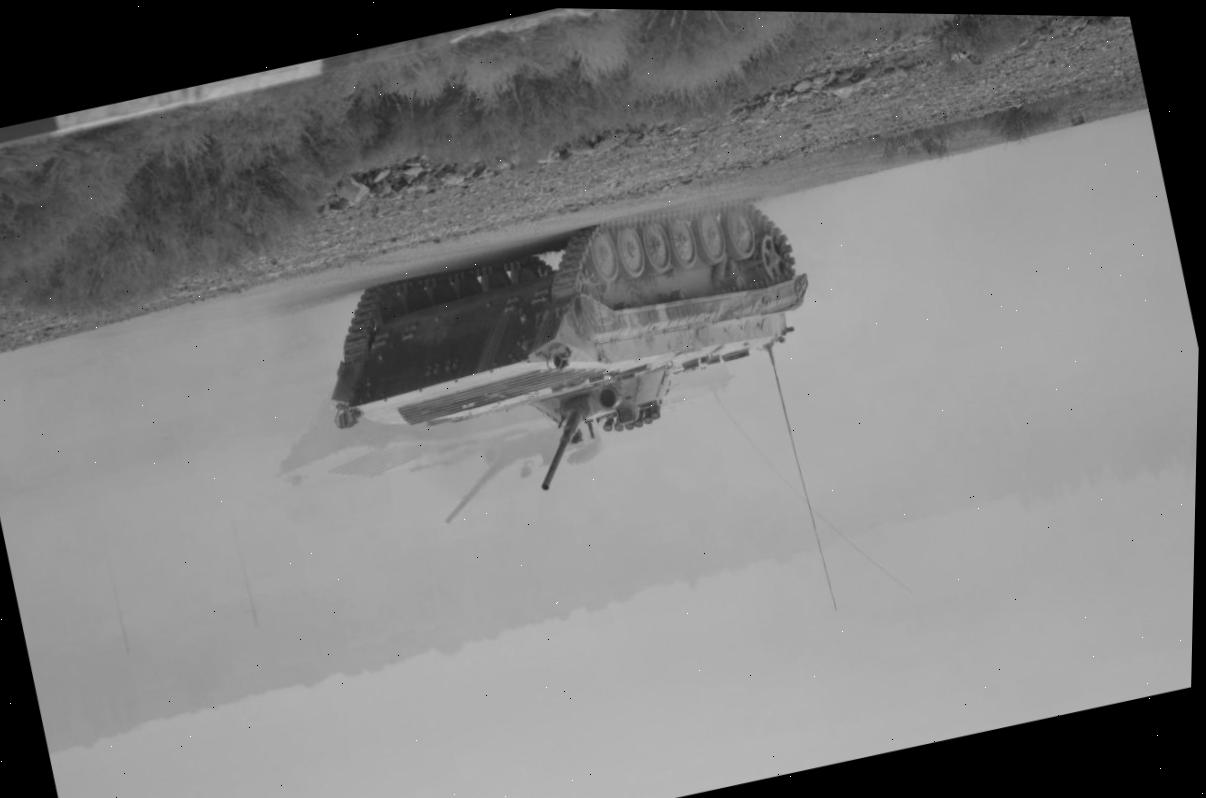tank: (301, 174, 848, 542), (261, 302, 753, 566)
